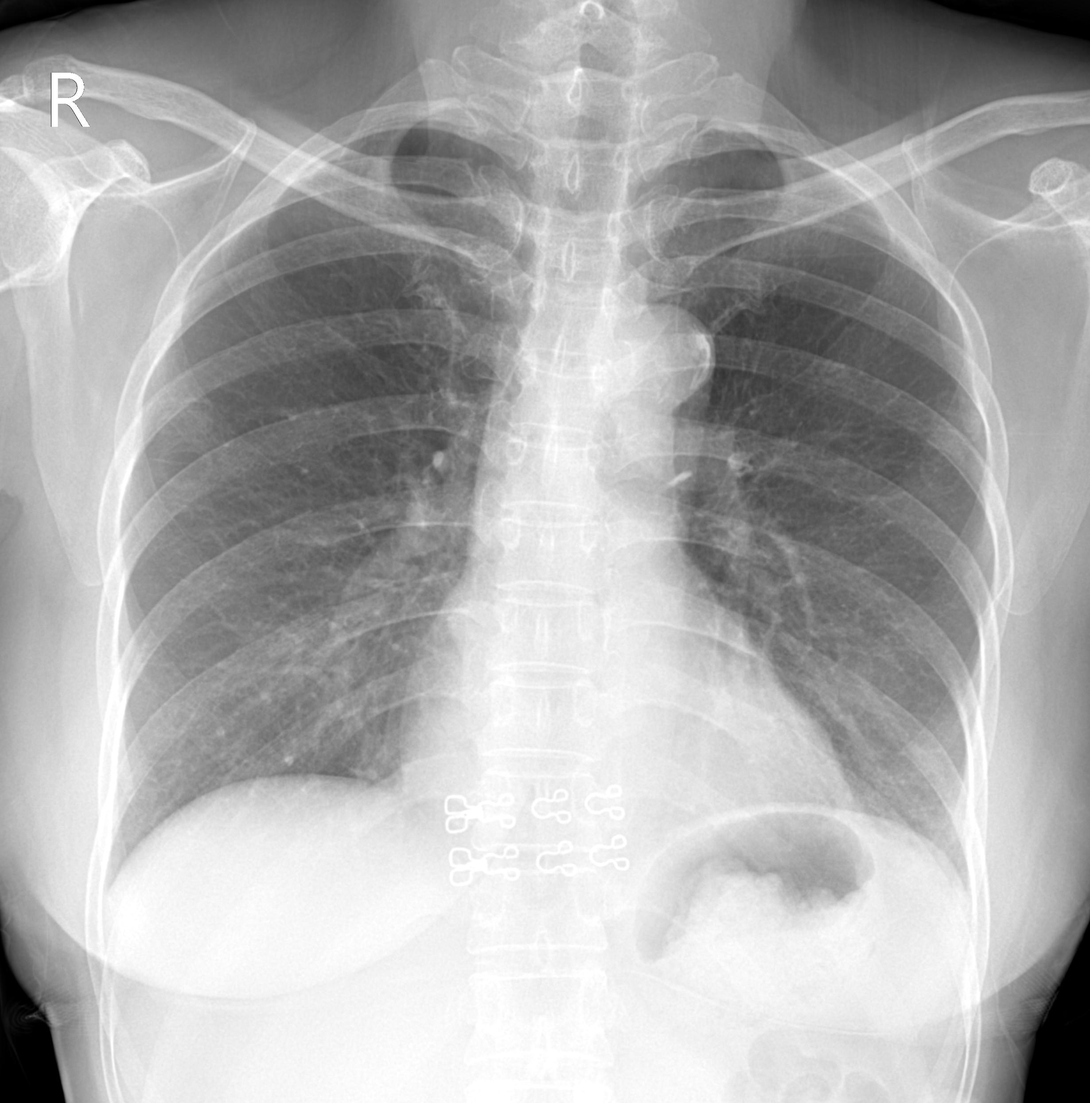Aortic enlargement: (590, 300, 718, 409)
Cardiomegaly: (394, 656, 863, 839)
Pleural thickening: (303, 141, 353, 180), (841, 180, 872, 205)
